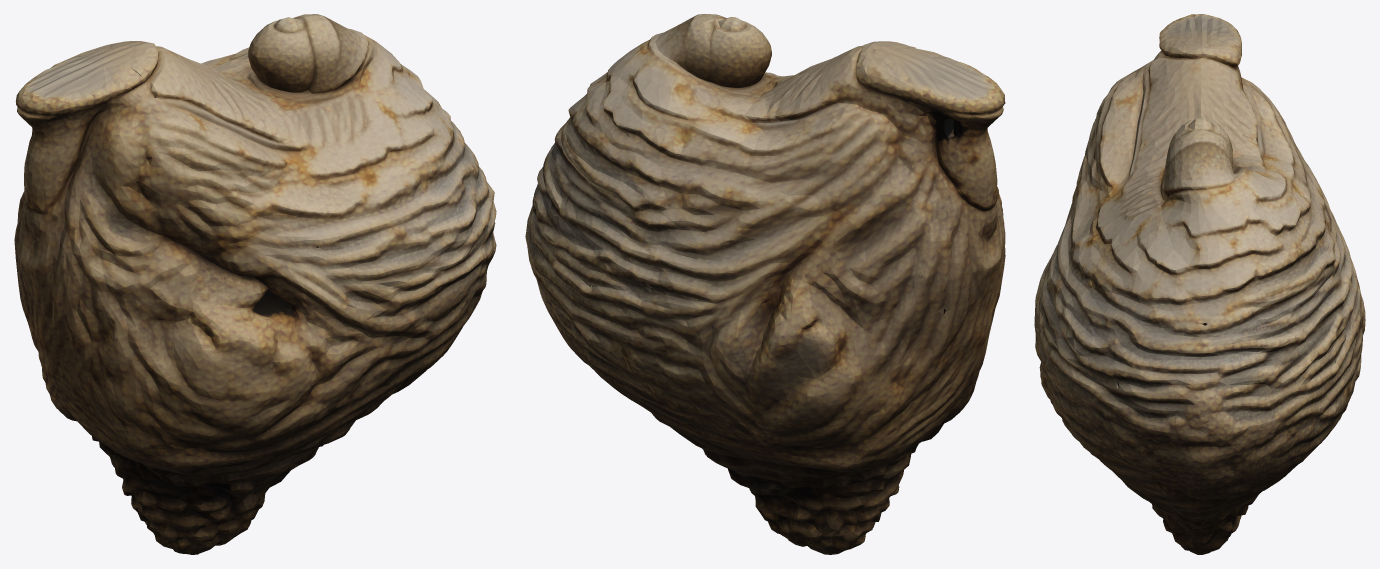
The picture shows the model from 3 angles, left to right: view 1: azimuth 30°, elevation 25°; view 2: azimuth 150°, elevation 25°; view 3: azimuth 270°, elevation 25°; orthographic projection. The views are drawn at different scales.
Visible parts, largest first — view 1: world; view 2: world; view 3: world.
Part boxes in pixels (box(x1,y1,x2,y2)): world: box(14, 14, 496, 554); world: box(525, 14, 1005, 554); world: box(1034, 14, 1365, 554).
Size of the model in its own units: 0.9206 by 0.983 by 0.6177.
1 material, 1 textured.
